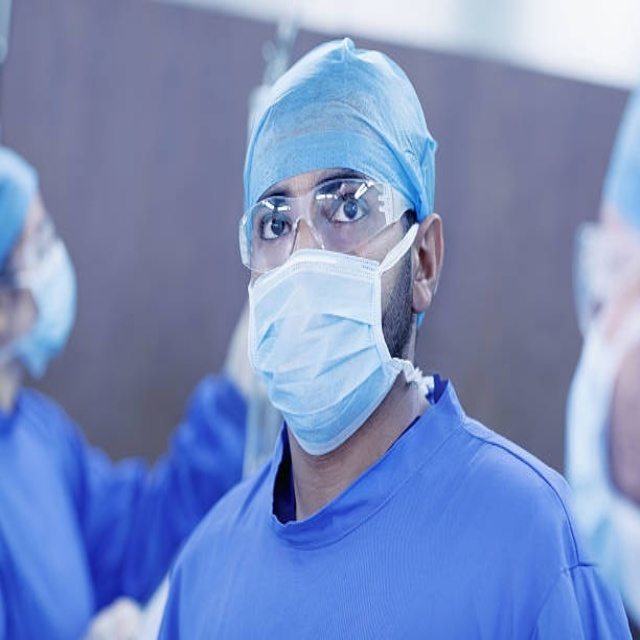Gafas: (238, 177, 417, 275), (1, 213, 57, 284)
Mascara: (248, 222, 424, 457), (562, 260, 640, 640), (5, 239, 78, 380)
